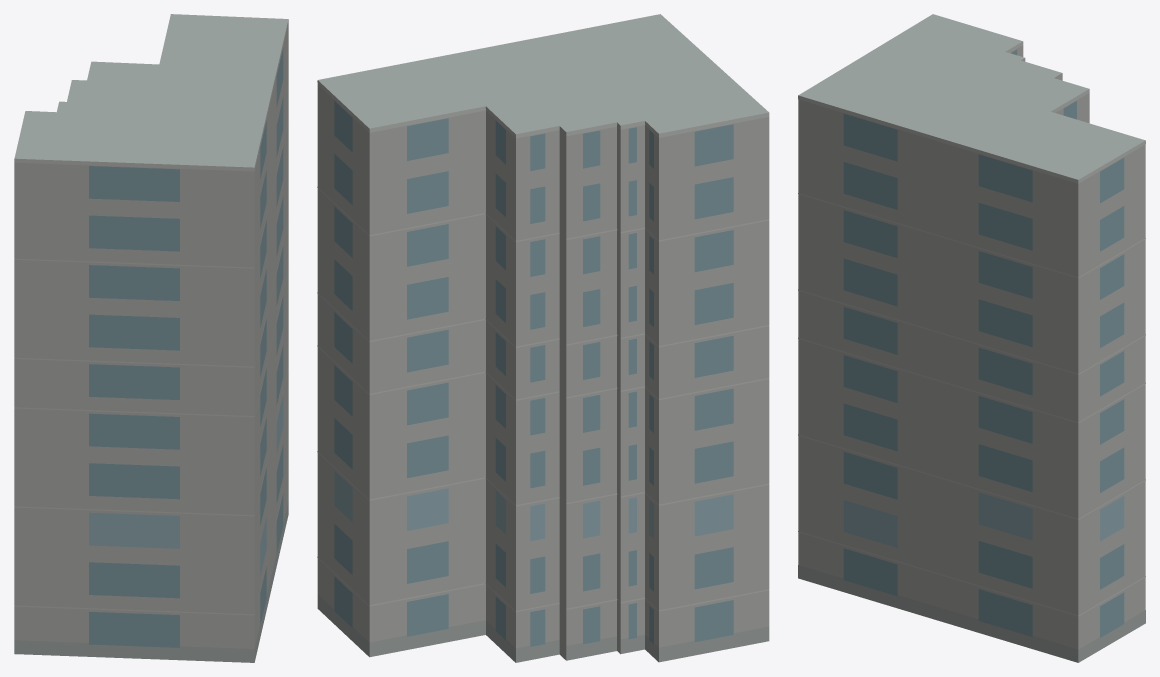
Rendered from survey-upis-32752991.glb.
3 views of the same model, side by side, from view 1: azimuth 30°, elevation 25°; view 2: azimuth 150°, elevation 25°; view 3: azimuth 270°, elevation 25° (orthographic). The views are drawn at different scales.
Visible parts, largest first — view 1: survey-upis-32752991.tmp; view 2: survey-upis-32752991.tmp; view 3: survey-upis-32752991.tmp.
Part boxes in pixels (left/top/right/bottom): survey-upis-32752991.tmp: left=14, top=14, right=288, bottom=662; survey-upis-32752991.tmp: left=317, top=14, right=769, bottom=662; survey-upis-32752991.tmp: left=798, top=14, right=1145, bottom=662.
Size of the model in its own units: 22.27 by 30.2 by 19.72.
